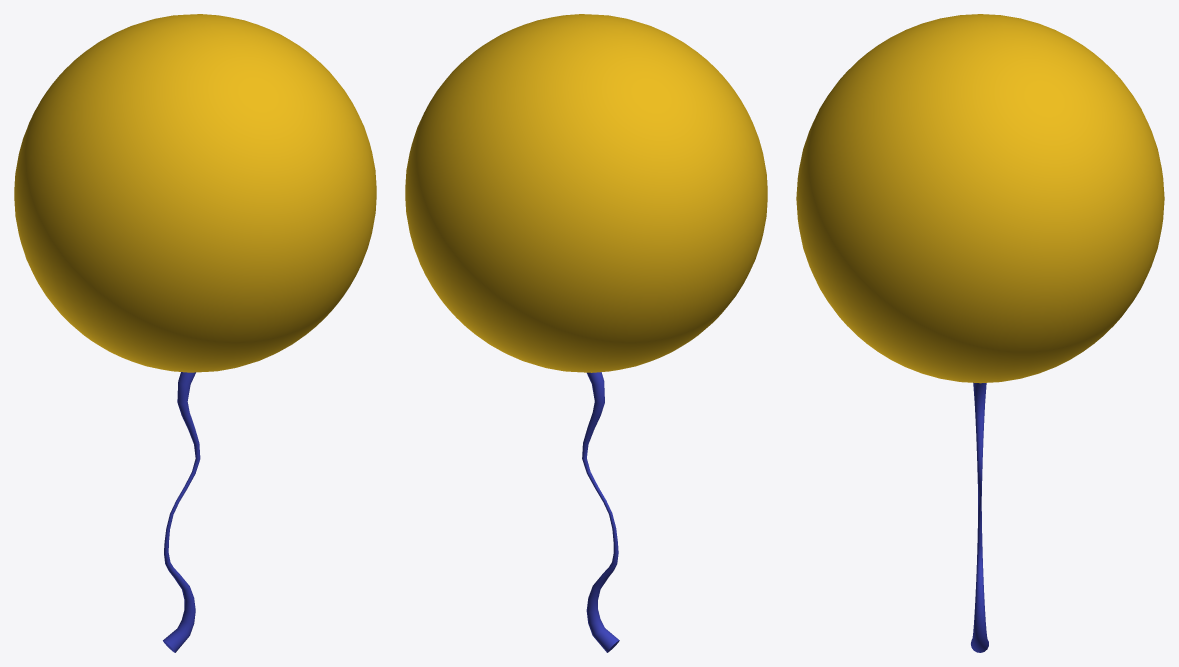
The model's file is Baloon.fbx.
The picture shows the model from 3 angles, left to right: view 1: azimuth 30°, elevation 25°; view 2: azimuth 150°, elevation 25°; view 3: azimuth 270°, elevation 25°; orthographic projection. The views are drawn at different scales.
Visible parts, largest first — view 1: root (×2); view 2: root (×2); view 3: root (×2).
Boxes of the visible parts, x1,y1,x2,y2 form: root (×2): [14, 14, 376, 652]; root (×2): [405, 14, 767, 652]; root (×2): [796, 14, 1164, 652].
Size of the model in its own units: 0.2535 by 0.4729 by 0.2496.
Materials: 2 (1 with a texture image).
